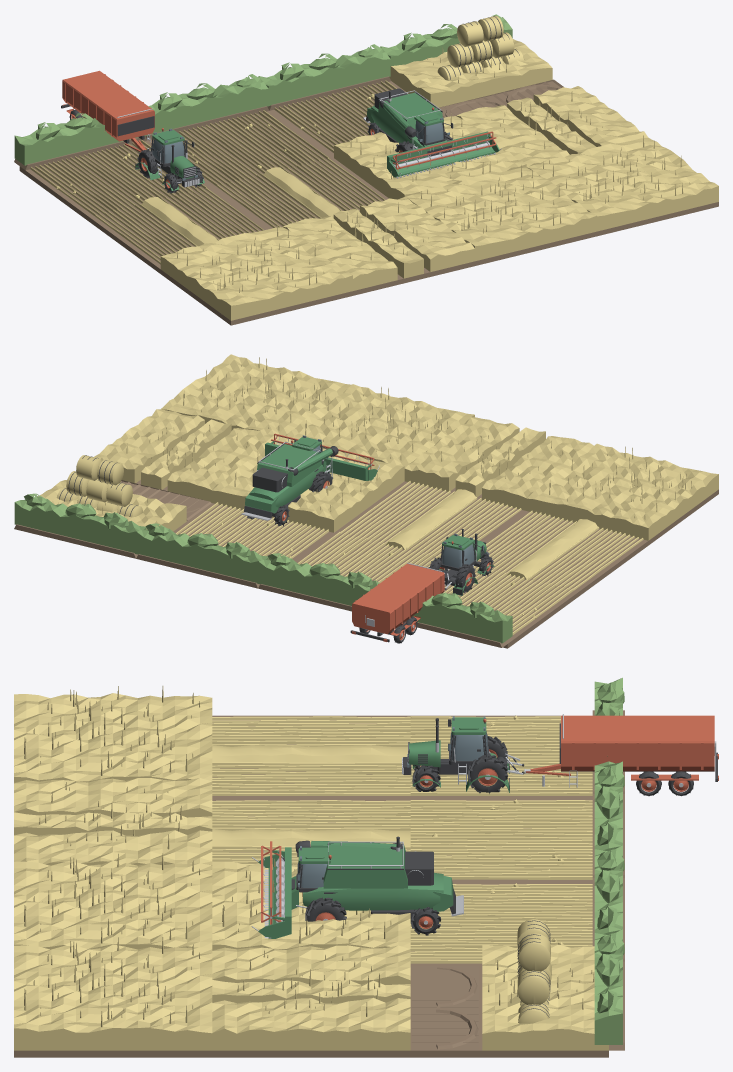
The model's file is arable-fields-and-farm-machinery-harvest-88d5db57-starter-scene__16895.glb.
3 renders of one model, top to bottom at view 1: azimuth 30°, elevation 25°; view 2: azimuth 150°, elevation 25°; view 3: azimuth 270°, elevation 25°, orthographic. The views are drawn at different scales.
Parts seen in each view (by area): view 1: 000-field-tile-standing-wheat/1, 002-field-tile-standing-wheat/1, 003-field-tile-standing-wheat/1, 001-field-tile-tramline/1, 007-field-tile-tramline/1, 006-field-tile-standing-wheat/1, 005-field-tile-harvested-swath/1, 009-field-tile-stubble/1, 004-field-tile-harvested-swath/1, 011-field-tile-headland/1, 008-field-tile-stubble/1, 014-hedgerow-run/1 (+27 smaller); view 2: 000-field-tile-standing-wheat/1, 001-field-tile-tramline/1, 007-field-tile-tramline/1, 003-field-tile-standing-wheat/1, 002-field-tile-standing-wheat/1, 004-field-tile-harvested-swath/1, 005-field-tile-harvested-swath/1, 006-field-tile-standing-wheat/1, 014-hedgerow-run/1, 015-hedgerow-run/1, 018-grain-trailer/tipping-body/accent, 004-field-tile-harvested-swath/0 (+21 smaller); view 3: 003-field-tile-standing-wheat/1, 007-field-tile-tramline/1, 000-field-tile-standing-wheat/1, 002-field-tile-standing-wheat/1, 001-field-tile-tramline/1, 004-field-tile-harvested-swath/1, 009-field-tile-stubble/1, 010-field-tile-stubble/1, 005-field-tile-harvested-swath/1, 011-field-tile-headland/1, 006-field-tile-standing-wheat/1, 016-combine-harvester-with-grain-header/0 (+23 smaller).
Part boxes in pixels (x1,y1,x2,y2): 000-field-tile-standing-wheat/1: [160, 224, 352, 320]; 002-field-tile-standing-wheat/1: [405, 165, 596, 261]; 003-field-tile-standing-wheat/1: [527, 135, 718, 231]; 001-field-tile-tramline/1: [283, 197, 474, 290]; 007-field-tile-tramline/1: [456, 86, 648, 166]; 006-field-tile-standing-wheat/1: [334, 113, 526, 199]; 005-field-tile-harvested-swath/1: [217, 158, 385, 227]; 009-field-tile-stubble/1: [153, 110, 328, 186]; 004-field-tile-harvested-swath/1: [95, 188, 263, 264]; 011-field-tile-headland/1: [389, 39, 552, 107]; 008-field-tile-stubble/1: [30, 140, 206, 215]; 014-hedgerow-run/1: [258, 44, 390, 105]; 000-field-tile-standing-wheat/1: [526, 443, 718, 540]; 001-field-tile-tramline/1: [404, 417, 593, 510]; 007-field-tile-tramline/1: [94, 409, 279, 502]; 003-field-tile-standing-wheat/1: [161, 354, 351, 437]; 002-field-tile-standing-wheat/1: [286, 384, 474, 467]; 004-field-tile-harvested-swath/1: [476, 510, 643, 590]; 005-field-tile-harvested-swath/1: [340, 481, 521, 557]; 006-field-tile-standing-wheat/1: [212, 437, 404, 532]; 014-hedgerow-run/1: [136, 523, 268, 583]; 015-hedgerow-run/1: [14, 493, 146, 553]; 018-grain-trailer/tipping-body/accent: [352, 563, 444, 634]; 004-field-tile-harvested-swath/0: [476, 511, 648, 596]; 003-field-tile-standing-wheat/1: [14, 937, 212, 1050]; 007-field-tile-tramline/1: [212, 945, 410, 1050]; 000-field-tile-standing-wheat/1: [14, 686, 212, 782]; 002-field-tile-standing-wheat/1: [14, 853, 212, 949]; 001-field-tile-tramline/1: [14, 778, 212, 865]; 004-field-tile-harvested-swath/1: [212, 716, 410, 795]; 009-field-tile-stubble/1: [410, 799, 592, 879]; 010-field-tile-stubble/1: [410, 883, 592, 963]; 005-field-tile-harvested-swath/1: [212, 800, 410, 865]; 011-field-tile-headland/1: [482, 944, 608, 1050]; 006-field-tile-standing-wheat/1: [212, 858, 410, 949]; 016-combine-harvester-with-grain-header/0: [258, 845, 453, 938].
Size of the model in its own units: 32 by 3.99 by 28.44.
